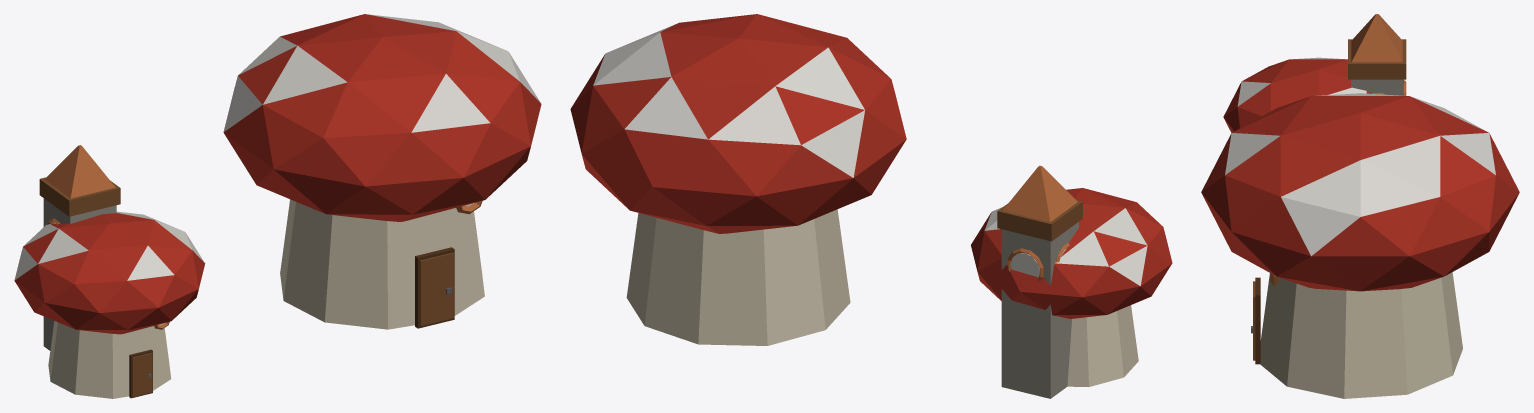
Rendered from gnome_court_broken.glb.
The picture shows the model from 3 angles, left to right: view 1: azimuth 30°, elevation 25°; view 2: azimuth 150°, elevation 25°; view 3: azimuth 270°, elevation 25°; orthographic projection. The views are drawn at different scales.
Visible parts, largest first — view 1: gnome_court_piece2, gnome_court_piece1, gnome_court_piece6, gnome_court_piece4, gnome_court_piece8, gnome_court_piece0, gnome_court_piece5, gnome_court_piece7, gnome_court_piece3; view 2: gnome_court_piece5, gnome_court_piece6, gnome_court_piece1, gnome_court_piece3, gnome_court_piece8, gnome_court_piece0, gnome_court_piece2, gnome_court_piece4; view 3: gnome_court_piece1, gnome_court_piece3, gnome_court_piece2, gnome_court_piece6, gnome_court_piece4, gnome_court_piece5, gnome_court_piece7, gnome_court_piece0.
Boxes of the visible parts, bbox=[...] form: gnome_court_piece2: bbox=[261, 105, 534, 328]; gnome_court_piece1: bbox=[254, 17, 541, 169]; gnome_court_piece6: bbox=[14, 145, 171, 398]; gnome_court_piece4: bbox=[66, 155, 392, 331]; gnome_court_piece8: bbox=[167, 201, 376, 328]; gnome_court_piece0: bbox=[111, 99, 358, 265]; gnome_court_piece5: bbox=[223, 22, 334, 278]; gnome_court_piece7: bbox=[353, 245, 484, 329]; gnome_court_piece3: bbox=[333, 14, 481, 271]; gnome_court_piece5: bbox=[624, 76, 856, 345]; gnome_court_piece6: bbox=[976, 165, 1172, 398]; gnome_court_piece1: bbox=[578, 14, 896, 162]; gnome_court_piece3: bbox=[570, 67, 731, 331]; gnome_court_piece8: bbox=[780, 230, 985, 342]; gnome_court_piece0: bbox=[800, 118, 1002, 248]; gnome_court_piece2: bbox=[809, 27, 906, 167]; gnome_court_piece4: bbox=[1066, 188, 1165, 236]; gnome_court_piece1: bbox=[1244, 93, 1422, 306]; gnome_court_piece3: bbox=[1309, 113, 1507, 398]; gnome_court_piece2: bbox=[1201, 105, 1331, 370]; gnome_court_piece6: bbox=[1294, 14, 1406, 95]; gnome_court_piece4: bbox=[1223, 59, 1309, 132]; gnome_court_piece5: bbox=[1403, 95, 1519, 366]; gnome_court_piece7: bbox=[1268, 337, 1319, 393]; gnome_court_piece0: bbox=[1308, 57, 1366, 96].
Size of the model in its own units: 2.49 by 1.16 by 1.38.
